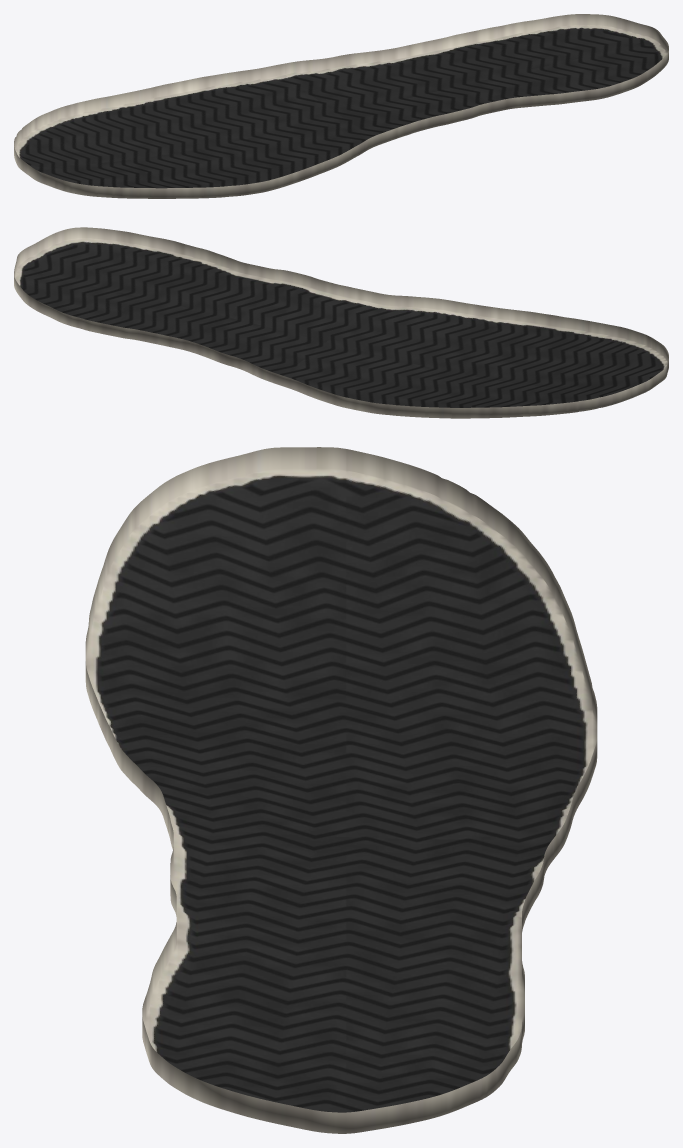
File: superstar-outsole-right.glb
The picture shows the model from 3 angles, top to bottom: view 1: azimuth 30°, elevation 25°; view 2: azimuth 150°, elevation 25°; view 3: azimuth 270°, elevation 25°; orthographic projection. The views are drawn at different scales.
Parts seen in each view (by area): view 1: Outsole_R; view 2: Outsole_R; view 3: Outsole_R.
Part boxes in pixels (box(x1,y1,x2,y2)): Outsole_R: box(14, 14, 668, 198); Outsole_R: box(14, 227, 668, 418); Outsole_R: box(85, 447, 597, 1133).
Bounding box in the file's own units: 1.85 × 0.1208 × 0.652.
Materials: 1 (1 with a texture image).
